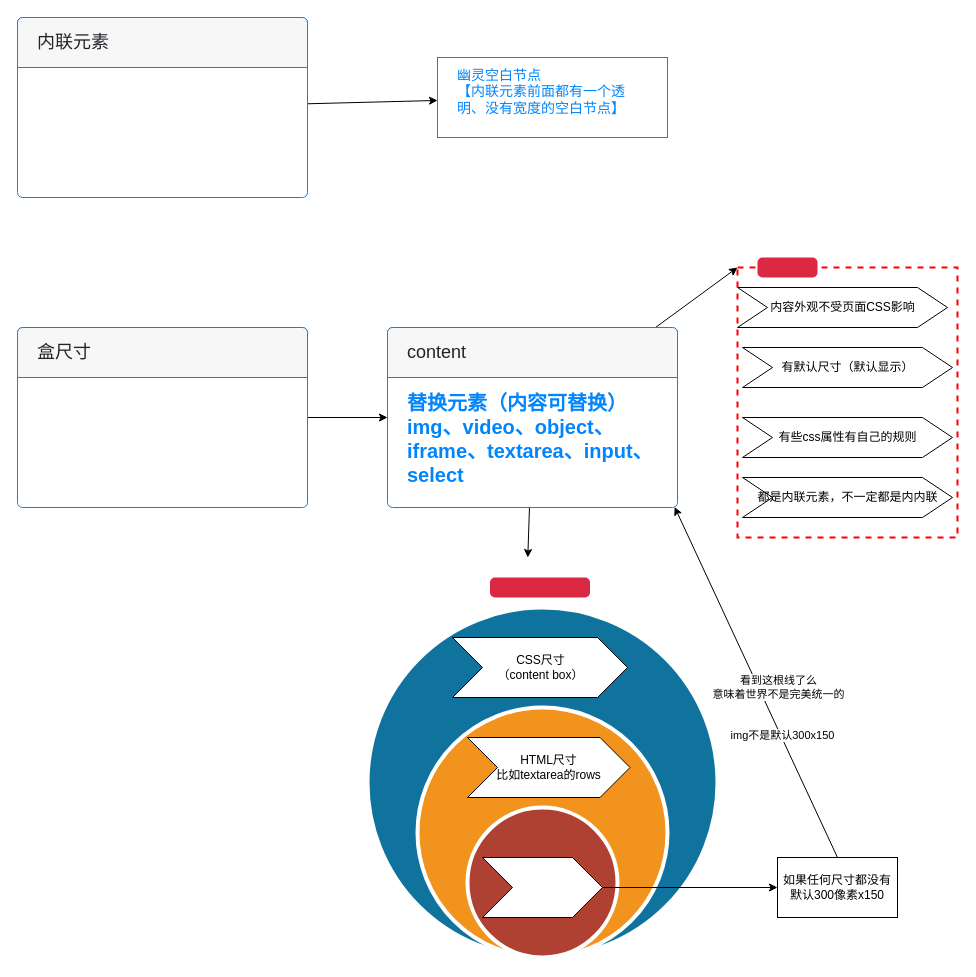
Some shapes in this 976 by 977 pixel diagram are drawn without their labels. Each missing label, with the box of its shape:
content box padding box border box margin box: (16, 326, 308, 508)
‘内联’指‘外在盒子’ inline-block inline-table都是内联元素: (16, 16, 308, 198)
固有尺寸 （默认尺寸） 图片就是图片 自己的大小: (482, 856, 602, 918)
尺寸计算规则: (490, 577, 590, 597)
特点: (757, 257, 817, 277)
